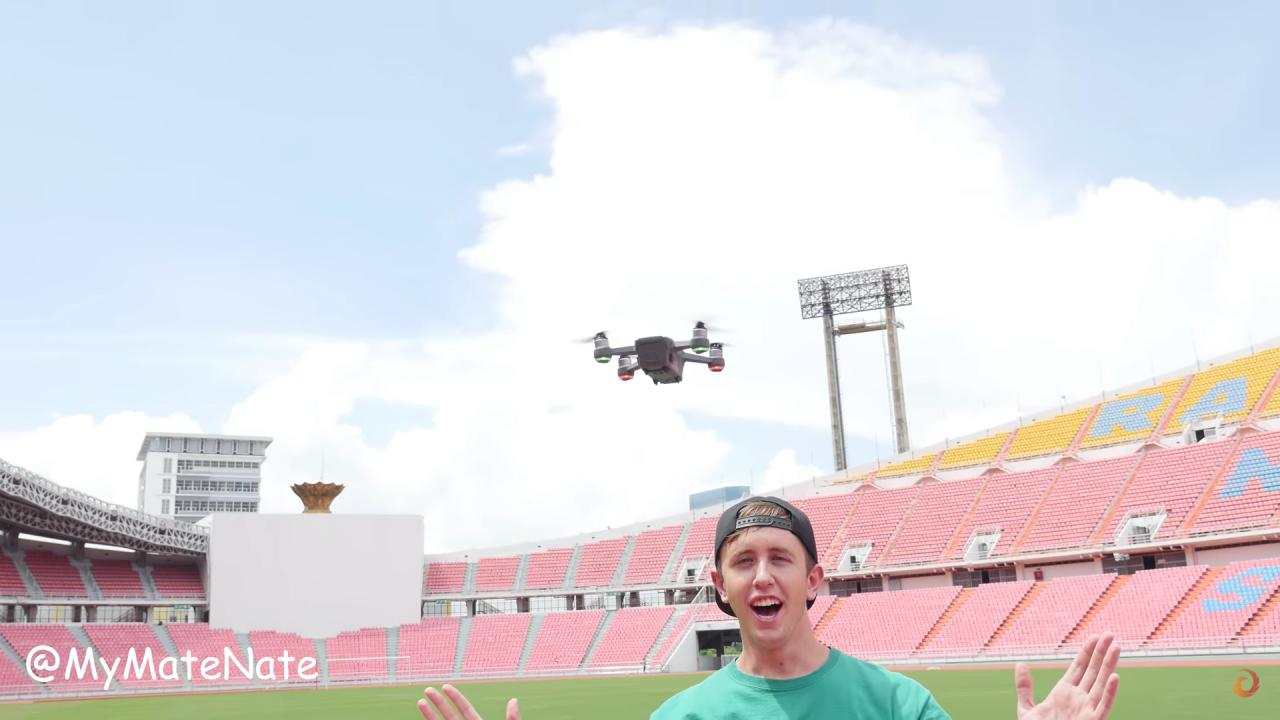Drone: (558, 299, 758, 400)
